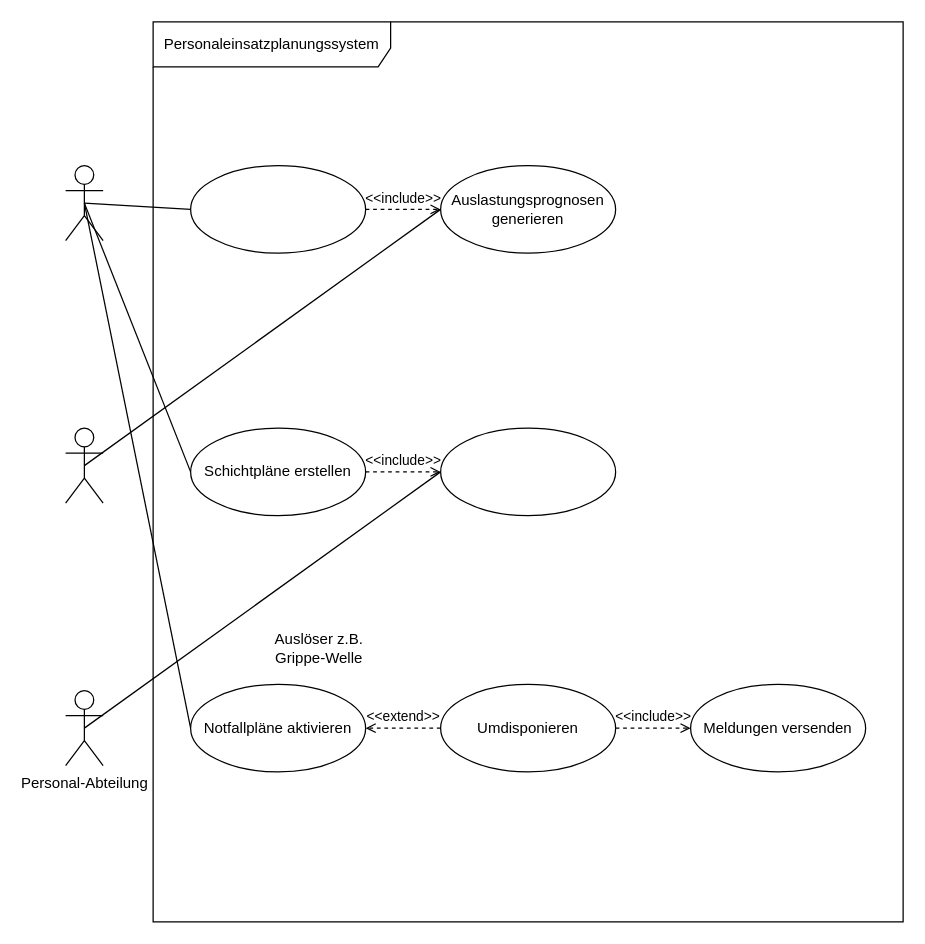
The diagram is 925 pixels wide and 944 high, and some of its shapes have lost their labels. Each missing label, with the centre of its shape:
Personalbedarf ermitteln: point (277, 208)
Personalverfügbarkeit prüfen: point (527, 471)
Stationsleiter: point (83, 202)
Verwaltung: point (83, 465)
